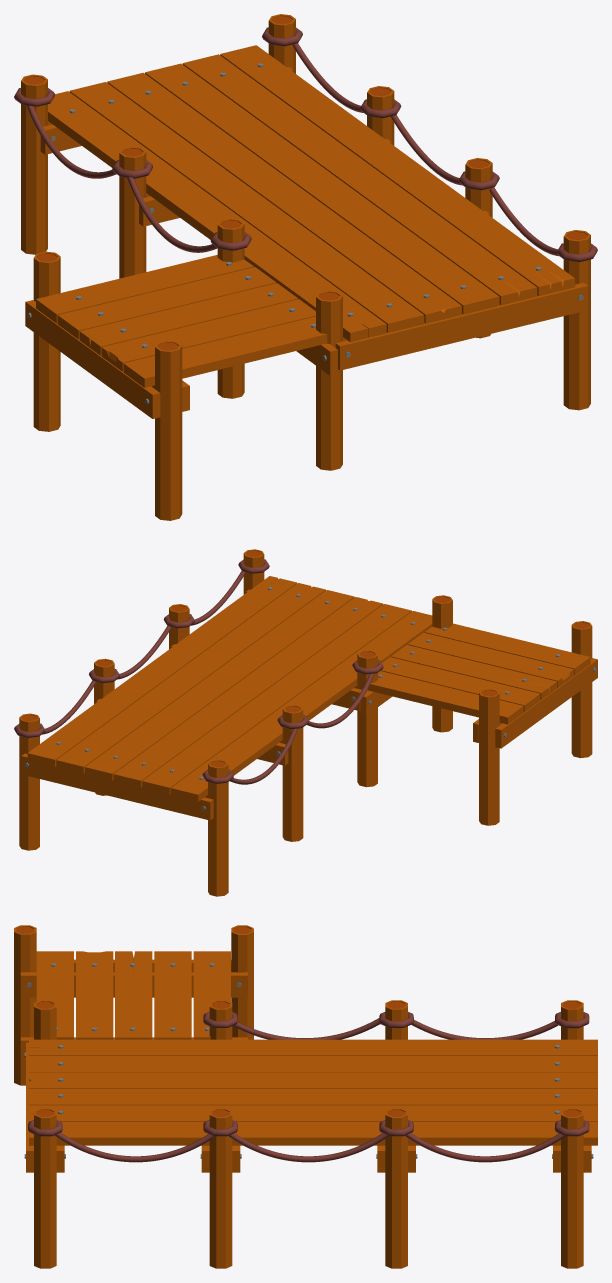
Rendered from pier_game.glb.
3 views of the same model, one above another, from view 1: azimuth 30°, elevation 25°; view 2: azimuth 150°, elevation 25°; view 3: azimuth 270°, elevation 25° (orthographic). The views are drawn at different scales.
Parts seen in each view (by area): view 1: Cylinder_048; view 2: Cylinder_048; view 3: Cylinder_048.
Part boxes in pixels (bbox=[...]): Cylinder_048: bbox=[14, 14, 597, 520]; Cylinder_048: bbox=[14, 549, 597, 896]; Cylinder_048: bbox=[14, 925, 597, 1268].
Bounding box in the file's own units: 3.23 × 1.14 × 4.
